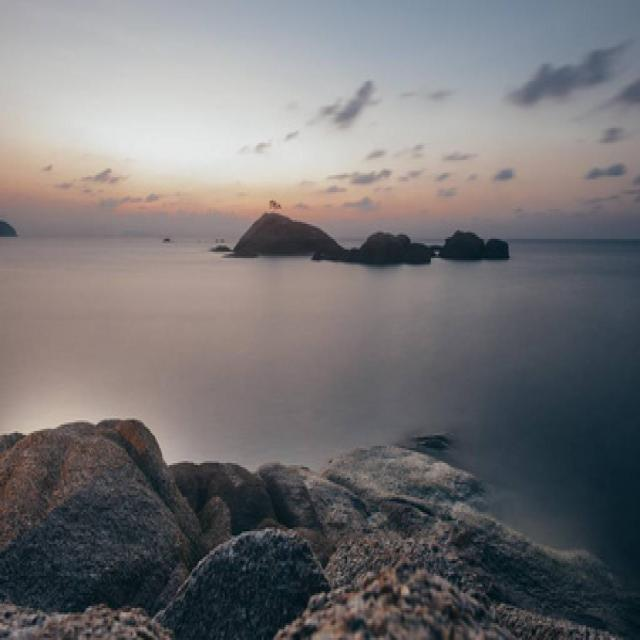island: (211, 192, 504, 273)
